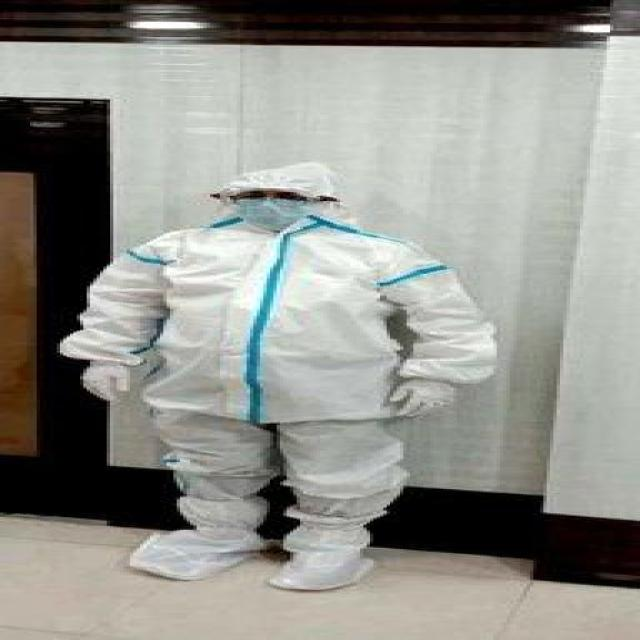Coverall: (67, 160, 487, 492)
Gloves: (63, 360, 137, 402), (380, 377, 453, 419)
Goggles: (227, 188, 303, 206)
Mask: (230, 199, 303, 229)
